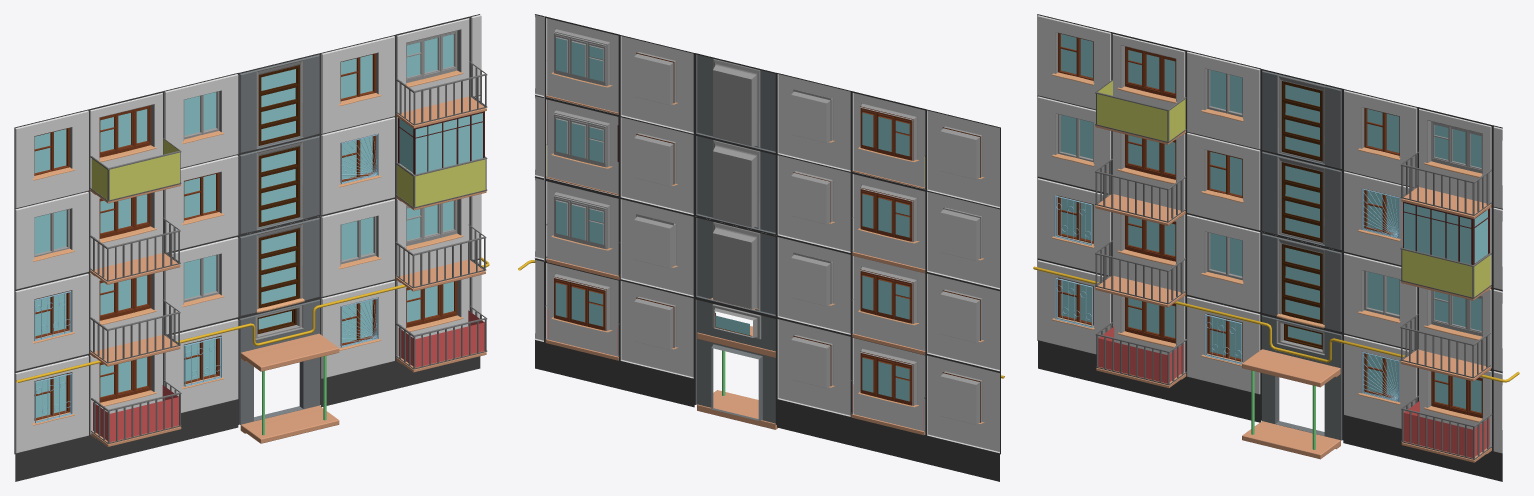
Rendered from Khrushevka_gr.fbx.
The picture shows the model from 3 angles, left to right: view 1: azimuth 30°, elevation 25°; view 2: azimuth 150°, elevation 25°; view 3: azimuth 330°, elevation 25°; orthographic projection.
Visible parts, largest first — view 1: Circle.003; view 2: Circle.003; view 3: Circle.003.
Boxes of the visible parts, x1=… form: Circle.003: x1=14, y1=14, x2=489, y2=481; Circle.003: x1=518, y1=14, x2=1004, y2=481; Circle.003: x1=1033, y1=14, x2=1519, y2=481.
Size of the model in its own units: 449 by 324 by 48.8.
